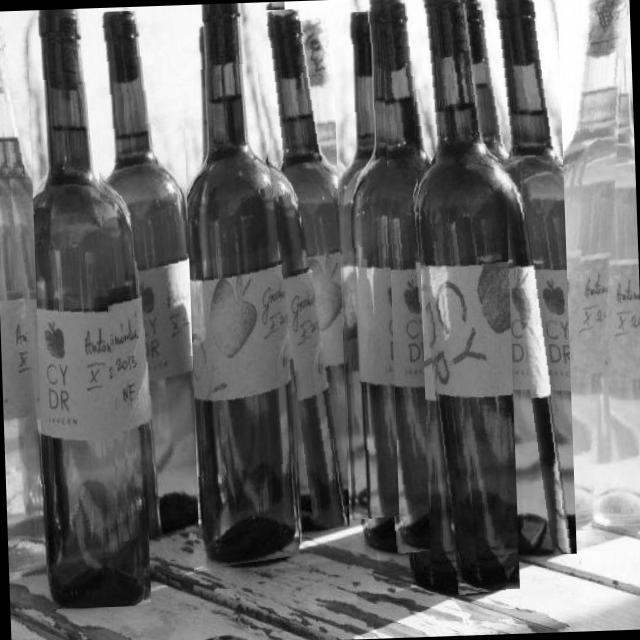Glass: (14, 7, 151, 610), (388, 0, 519, 596), (174, 2, 304, 570), (88, 9, 198, 542), (474, 0, 576, 556), (249, 7, 349, 532), (341, 0, 430, 554), (556, 0, 640, 536), (328, 11, 400, 521), (0, 10, 46, 572)
